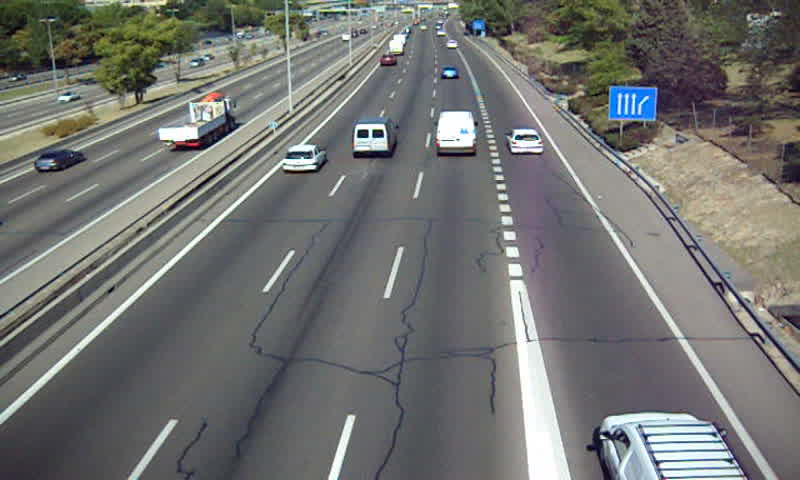car: (283, 144, 326, 173), (507, 127, 543, 154), (440, 66, 459, 81)
van: (436, 110, 477, 154), (353, 116, 398, 155)
